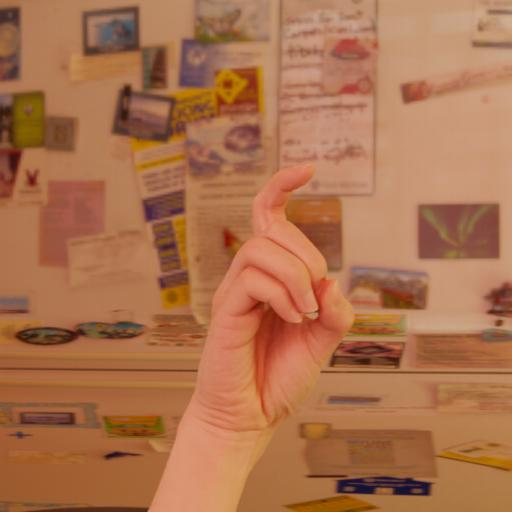X: (168, 134, 358, 450)
